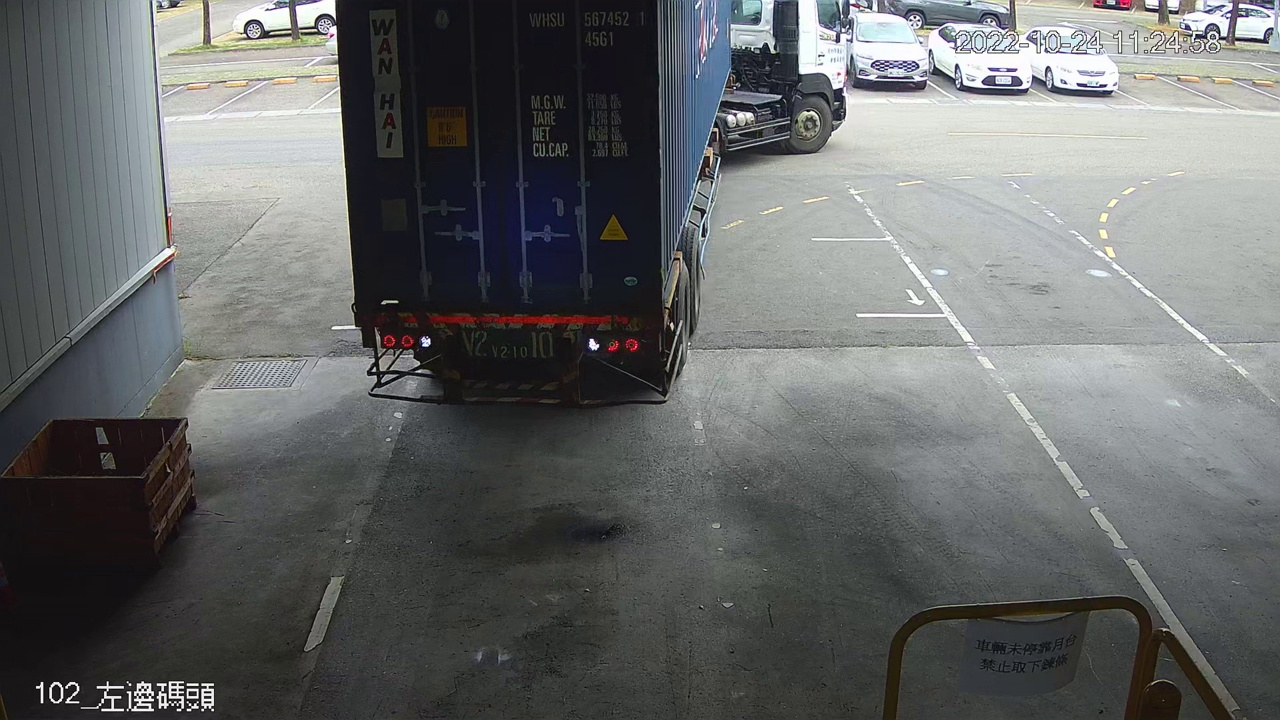container: (520, 4, 654, 51)
